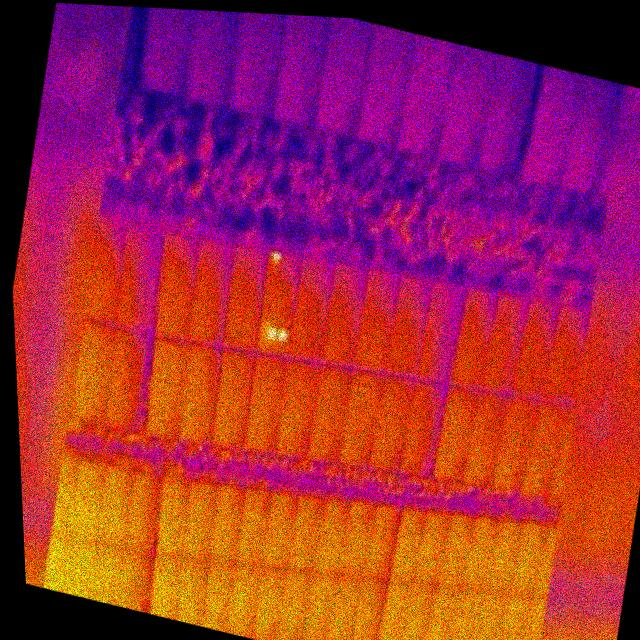Hotspot: (244, 244, 312, 363), (331, 362, 391, 472)
Normal: (442, 281, 506, 396), (391, 373, 453, 485)
Shadow: (510, 61, 589, 195), (428, 42, 503, 178), (301, 16, 380, 145), (214, 11, 298, 123), (125, 6, 211, 105)
